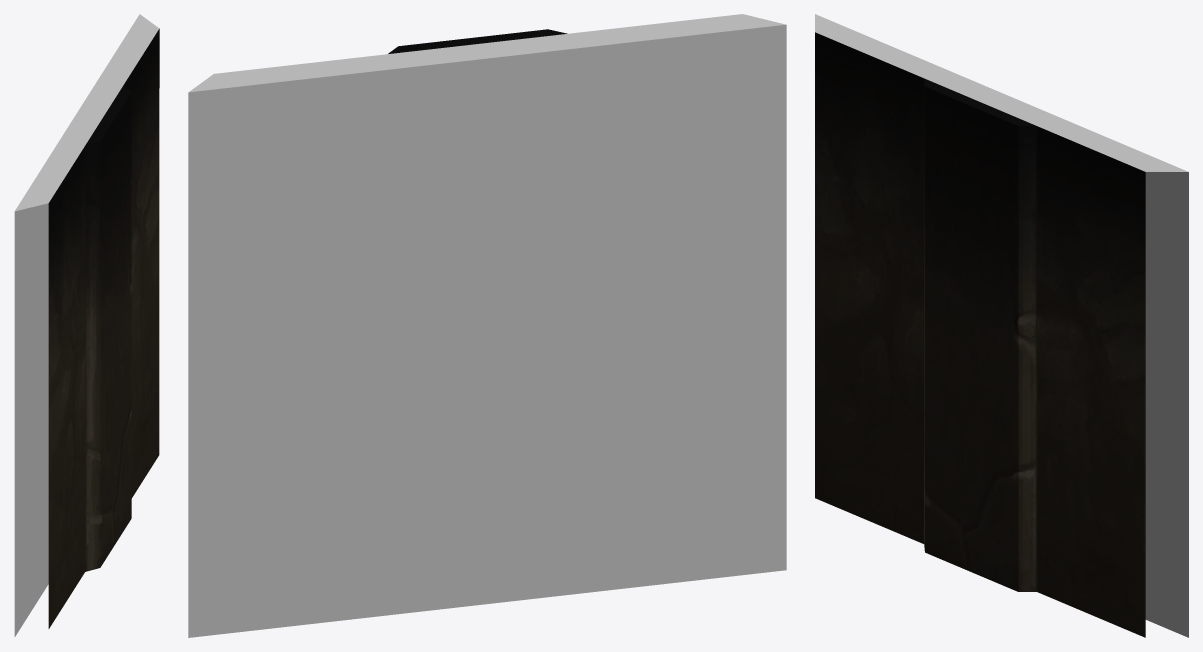
Rendered from fortress_fade_diagonal_02.fbx.
3 renders of one model, left to right at view 1: azimuth 30°, elevation 25°; view 2: azimuth 150°, elevation 25°; view 3: azimuth 270°, elevation 25°, orthographic. The views are drawn at different scales.
Visible parts, largest first — view 1: fortress_fade_diagonal_02-0; view 2: fortress_fade_diagonal_02-0; view 3: fortress_fade_diagonal_02-0.
Part boxes in pixels (left/top/right/bottom): fortress_fade_diagonal_02-0: left=14, top=14, right=159, bottom=636; fortress_fade_diagonal_02-0: left=188, top=14, right=786, bottom=637; fortress_fade_diagonal_02-0: left=815, top=14, right=1188, bottom=637.
Bounding box in the file's own units: 4 × 5.5 × 4.
